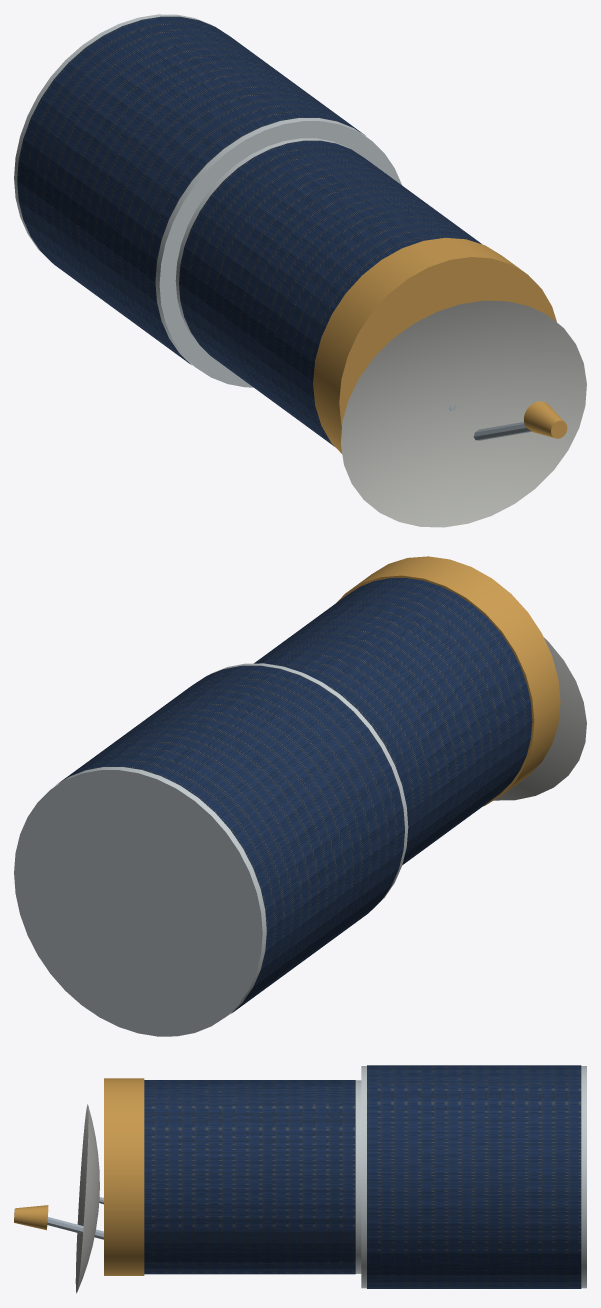
Rendered from ref-hs-393-19874.glb.
3 views of the same model, one above another, from view 1: azimuth 30°, elevation 25°; view 2: azimuth 150°, elevation 25°; view 3: azimuth 270°, elevation 25° (orthographic). The views are drawn at different scales.
Visible parts, largest first — view 1: Body-mounted solar cells (×2), Deck-mounted reflector, Despun equipment deck, Solar drum core (×2), Feed horn; view 2: Body-mounted solar cells (×2), Solar drum core, Despun equipment deck, Deck-mounted reflector; view 3: Body-mounted solar cells (×2), Despun equipment deck, Solar drum core (×2), Deck-mounted reflector, Feed horn, Offset feed boom.
Boxes of the visible parts, x1,y1,x2,y2 form: Body-mounted solar cells (×2): [17, 16, 481, 446]; Deck-mounted reflector: [340, 300, 586, 527]; Despun equipment deck: [313, 237, 556, 453]; Solar drum core (×2): [14, 14, 402, 387]; Feed horn: [524, 401, 567, 438]; Body-mounted solar cells (×2): [56, 578, 532, 1013]; Solar drum core: [14, 663, 408, 1036]; Despun equipment deck: [336, 556, 560, 806]; Deck-mounted reflector: [494, 637, 586, 800]; Body-mounted solar cells (×2): [144, 1065, 581, 1288]; Despun equipment deck: [104, 1078, 144, 1275]; Solar drum core (×2): [355, 1066, 586, 1288]; Deck-mounted reflector: [75, 1104, 99, 1293]; Feed horn: [14, 1205, 48, 1230]; Offset feed boom: [47, 1217, 103, 1239].
Size of the model in its own units: 3.61 by 3.67 by 9.26.
5 materials, 1 textured.
